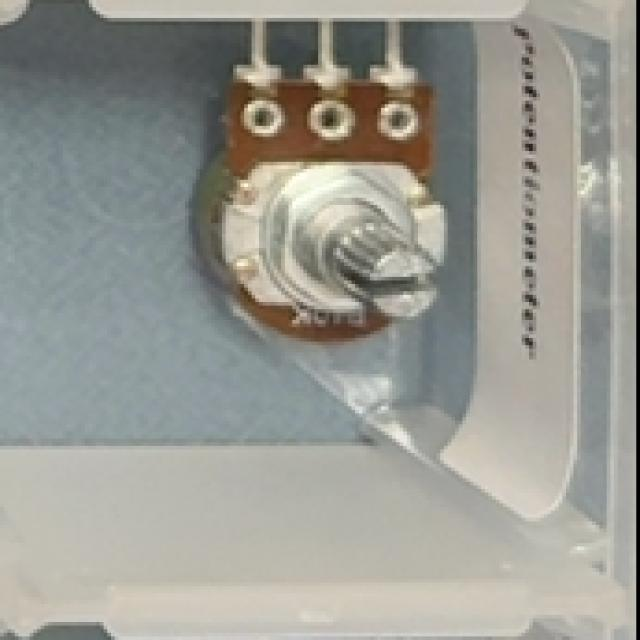Potentiometer: (193, 4, 449, 356)
